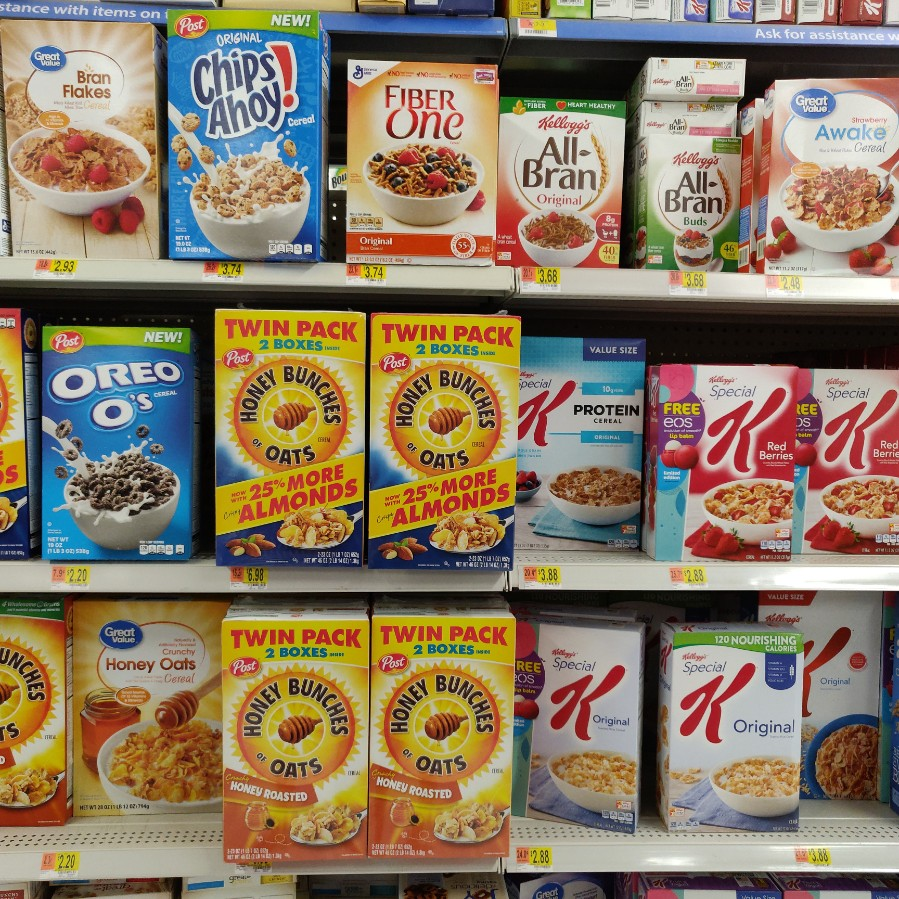Chips Ahoys-565717529: (164, 7, 329, 257)
Oreo-563424384: (39, 322, 196, 557)
